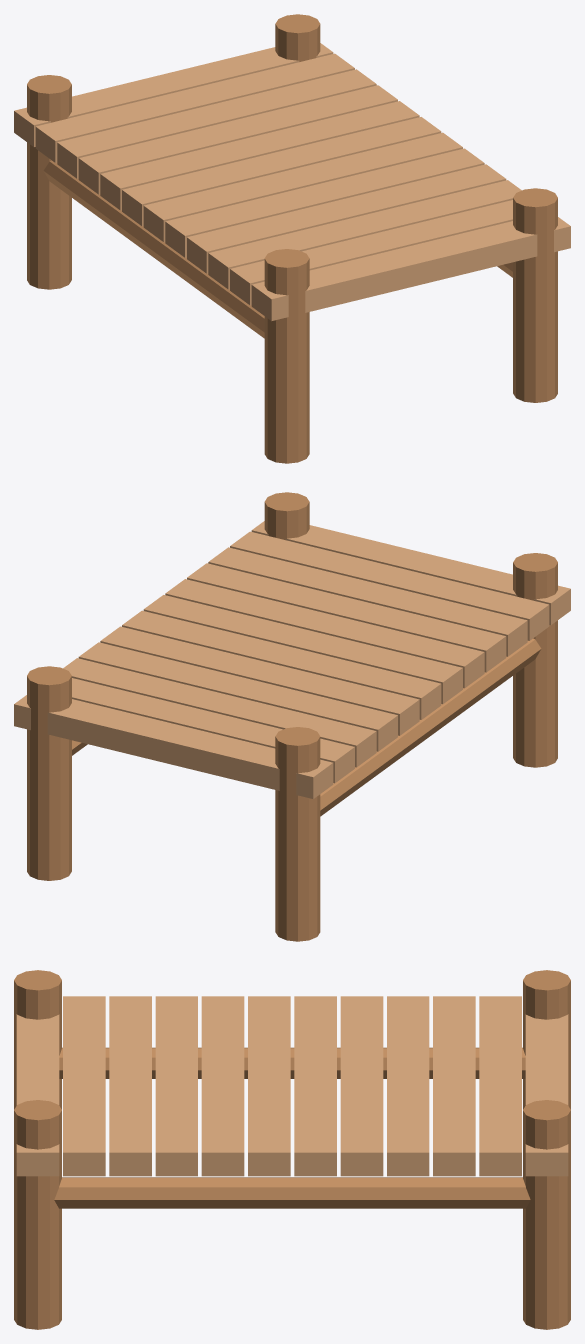
The model's file is dock_straight_2x3m.glb.
3 renders of one model, top to bottom at view 1: azimuth 30°, elevation 25°; view 2: azimuth 150°, elevation 25°; view 3: azimuth 270°, elevation 25°, orthographic. The views are drawn at different scales.
Parts seen in each view (by area): view 1: dock_straight_2x3m; view 2: dock_straight_2x3m; view 3: dock_straight_2x3m.
Part boxes in pixels (x1,y1,x2,y2): dock_straight_2x3m: (14, 14, 570, 463); dock_straight_2x3m: (14, 492, 570, 941); dock_straight_2x3m: (14, 970, 570, 1329).
Bounding box in the file's own units: 2 × 1.25 × 3.01.
